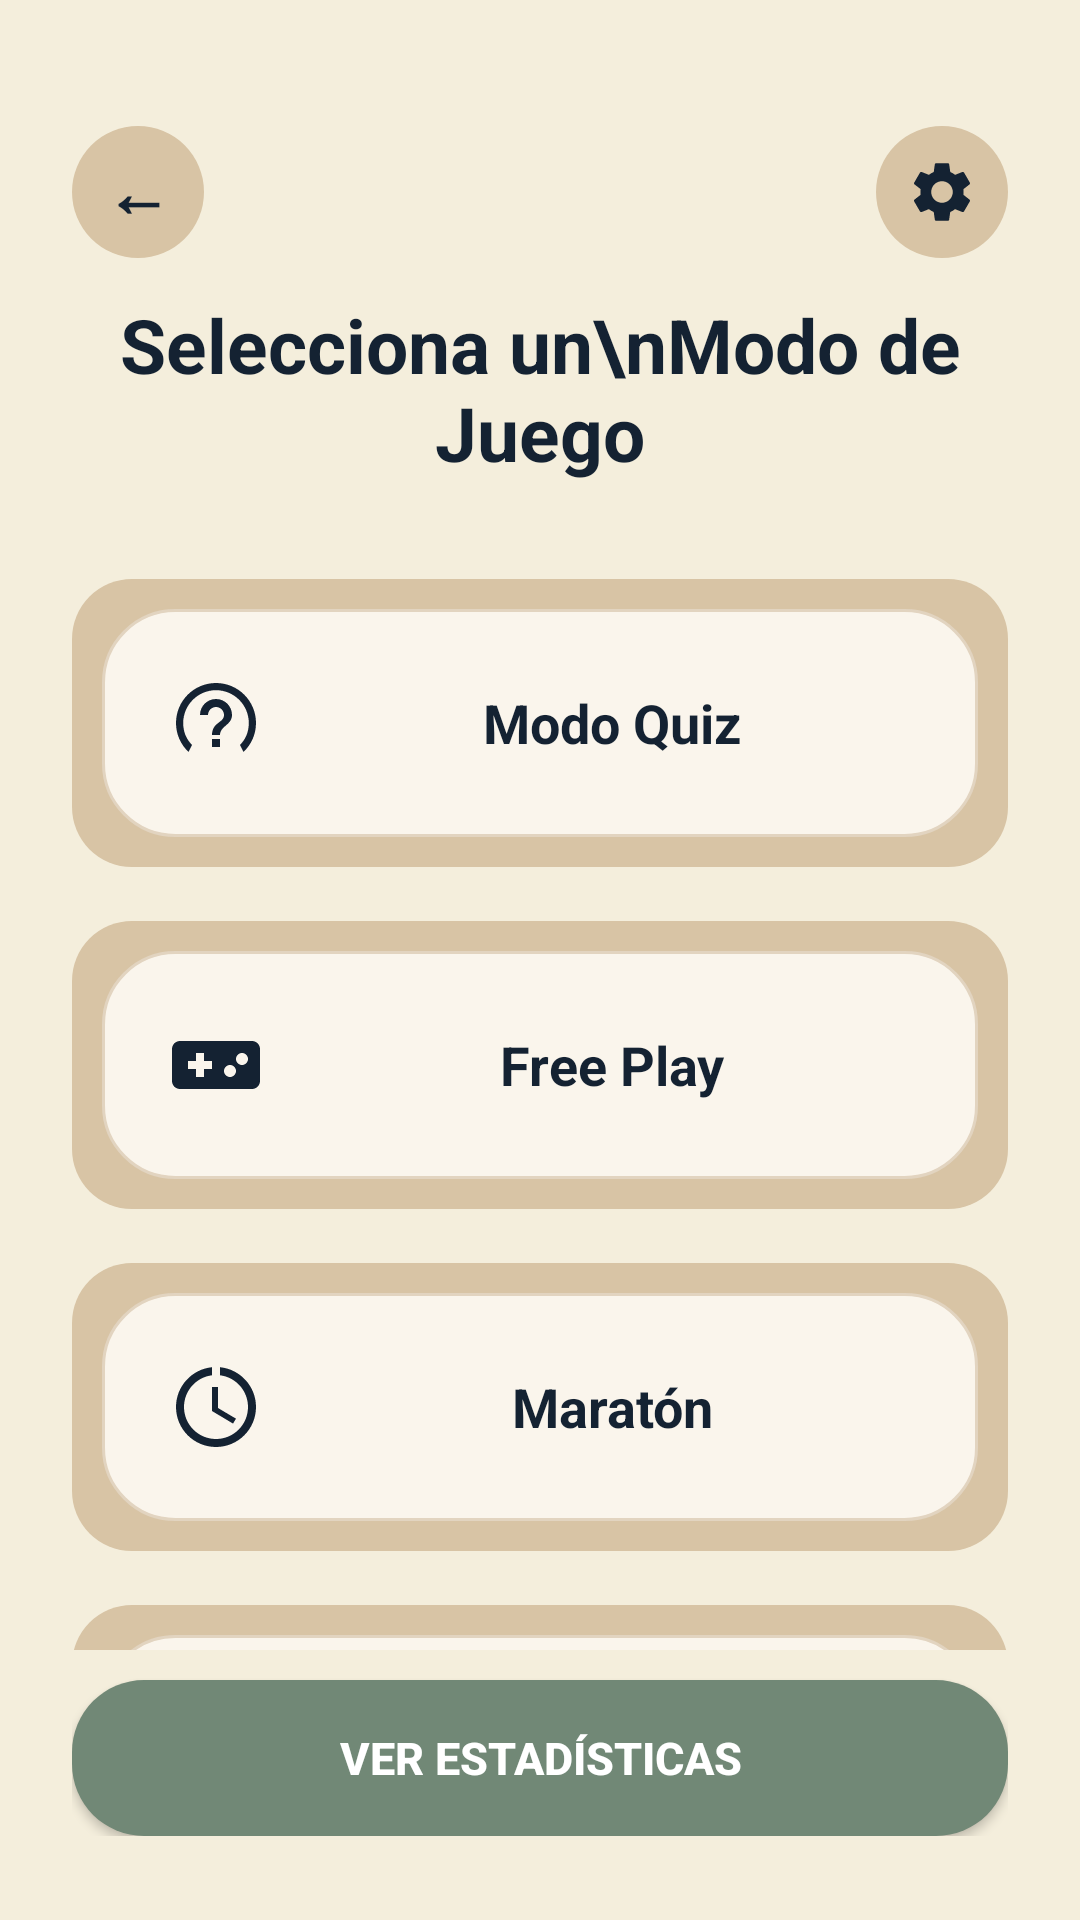

Named icons in this screenshot (1080*1920) and their bounding boxes, (x1, y1, x2, y2):
Ajustes: (876, 126, 1008, 258)
